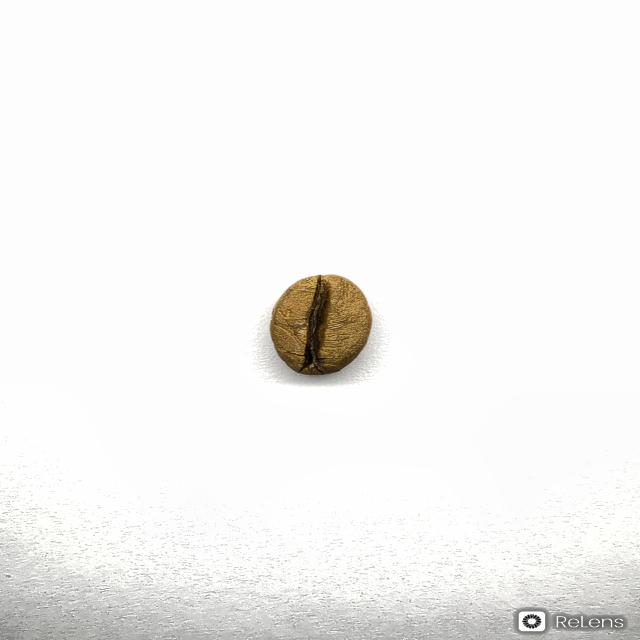Quaker: (269, 273, 373, 375)
